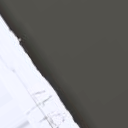crackTip: (10, 67, 58, 128)
